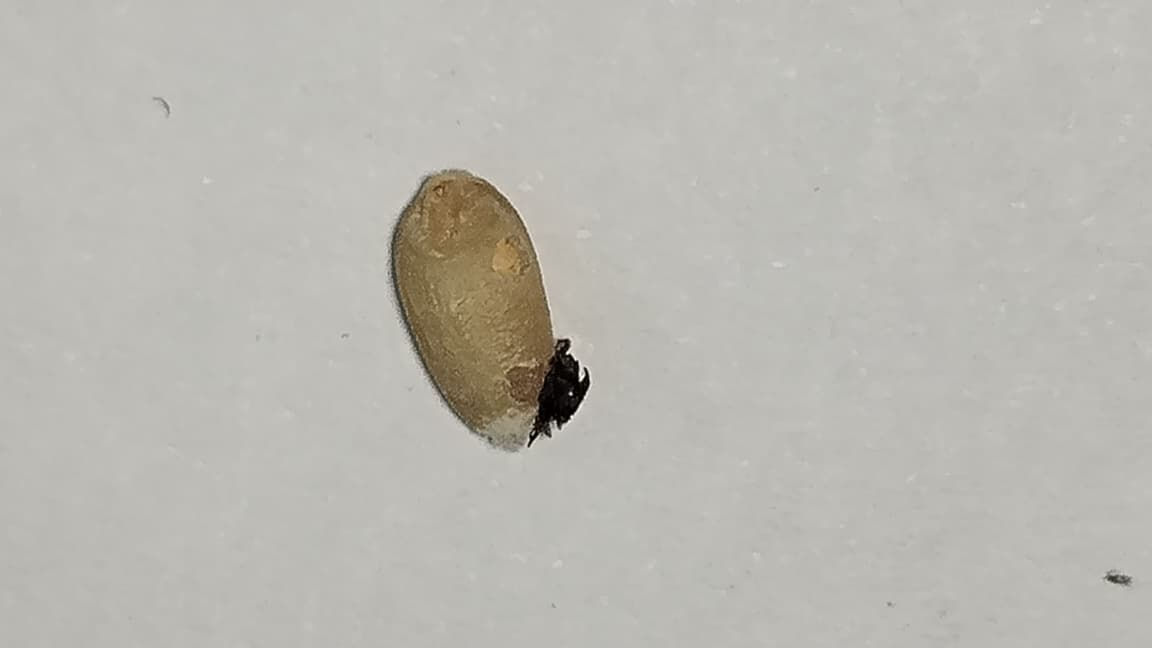damage: (390, 172, 589, 449)
insectdamage: (477, 314, 590, 451), (467, 202, 544, 280)
